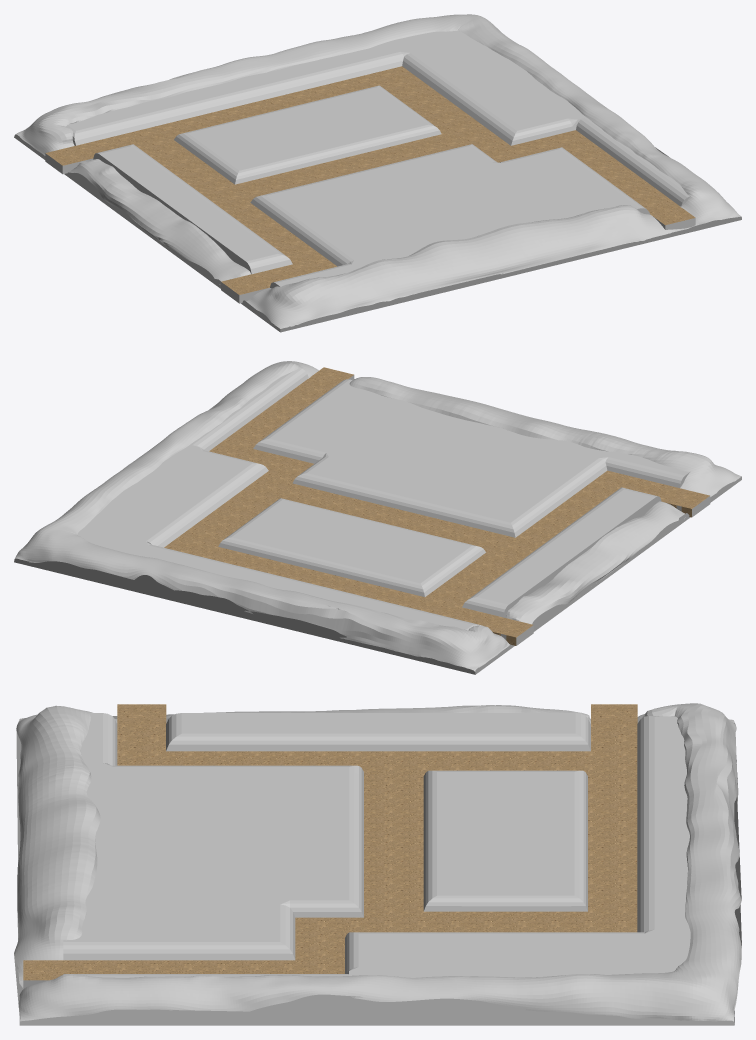
Rendered from OrcMap.fbx.
3 views of the same model, one above another, from view 1: azimuth 30°, elevation 25°; view 2: azimuth 150°, elevation 25°; view 3: azimuth 270°, elevation 25° (orthographic). The views are drawn at different scales.
Visible parts, largest first — view 1: Plane, Terrain, Grass8, Grass4, Grass2, Grass1, Grass7, Grass5, Grass3, Start2, Start1, Finish (+1 smaller); view 2: Plane, Grass8, Terrain, Grass4, Grass2, Grass7, Grass5, Grass1, Grass3, Grass6, Start2, Start1; view 3: Plane, Terrain, Grass8, Grass4, Grass7, Grass2, Grass5, Grass1, Grass6, Start2, Start1, Finish (+1 smaller).
Boxes of the visible parts, x1=… form: Plane: x1=14, y1=14, x2=741, y2=332; Terrain: x1=74, y1=66, x2=679, y2=287; Grass8: x1=250, y1=144, x2=573, y2=268; Grass4: x1=174, y1=85, x2=441, y2=184; Grass2: x1=402, y1=38, x2=586, y2=145; Grass1: x1=66, y1=31, x2=470, y2=145; Grass7: x1=93, y1=144, x2=292, y2=274; Grass5: x1=500, y1=147, x2=650, y2=216; Grass3: x1=576, y1=117, x2=690, y2=206; Start2: x1=221, y1=274, x2=269, y2=303; Start1: x1=45, y1=145, x2=93, y2=174; Finish: x1=650, y1=207, x2=695, y2=229; Plane: x1=14, y1=361, x2=741, y2=674; Grass8: x1=292, y1=399, x2=615, y2=537; Terrain: x1=164, y1=378, x2=679, y2=627; Grass4: x1=218, y1=498, x2=485, y2=596; Grass2: x1=85, y1=444, x2=268, y2=547; Grass7: x1=462, y1=487, x2=661, y2=617; Grass5: x1=253, y1=379, x2=398, y2=463; Grass1: x1=77, y1=526, x2=482, y2=630; Grass3: x1=190, y1=367, x2=308, y2=451; Grass6: x1=605, y1=452, x2=690, y2=487; Start2: x1=662, y1=488, x2=710, y2=517; Start1: x1=489, y1=617, x2=533, y2=645; Plane: x1=14, y1=703, x2=741, y2=1025; Terrain: x1=63, y1=724, x2=637, y2=973; Grass8: x1=85, y1=763, x2=363, y2=917; Grass4: x1=423, y1=770, x2=587, y2=911; Grass7: x1=166, y1=713, x2=590, y2=751; Grass2: x1=345, y1=932, x2=644, y2=977; Grass5: x1=63, y1=904, x2=295, y2=960; Grass1: x1=637, y1=716, x2=690, y2=973; Grass6: x1=81, y1=713, x2=117, y2=765; Start2: x1=117, y1=704, x2=166, y2=724; Start1: x1=591, y1=704, x2=637, y2=724; Finish: x1=23, y1=960, x2=63, y2=988.
Size of the model in its own units: 8629 by 483 by 8657.
